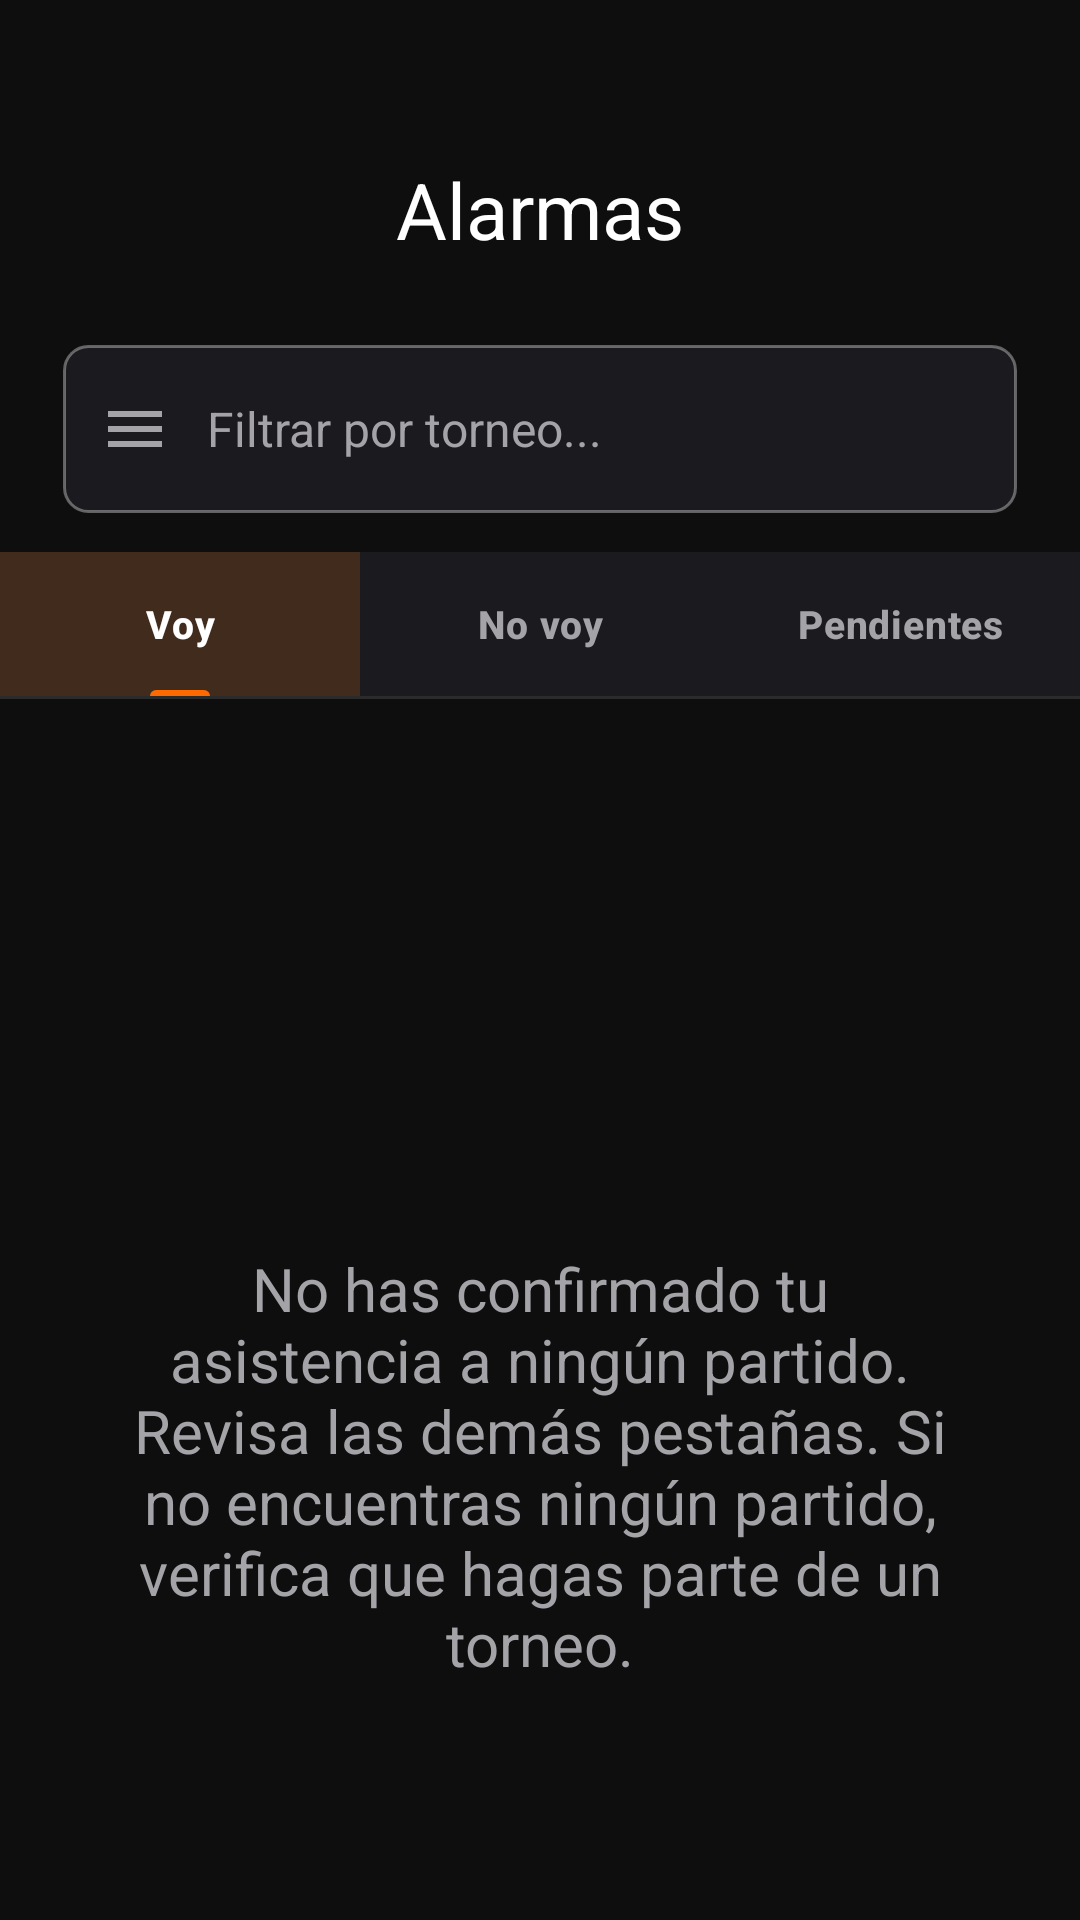

Point at icon controls on the screen. Image size 1080 × 1920, points as (x=x, y=y).
menu: (x=135, y=429)
